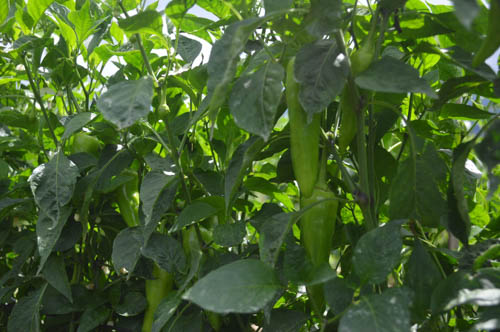ChiliPepper: (286, 57, 321, 198), (299, 190, 338, 313), (185, 227, 223, 326), (341, 48, 370, 153), (141, 264, 172, 329), (71, 133, 100, 194), (115, 171, 141, 225)
